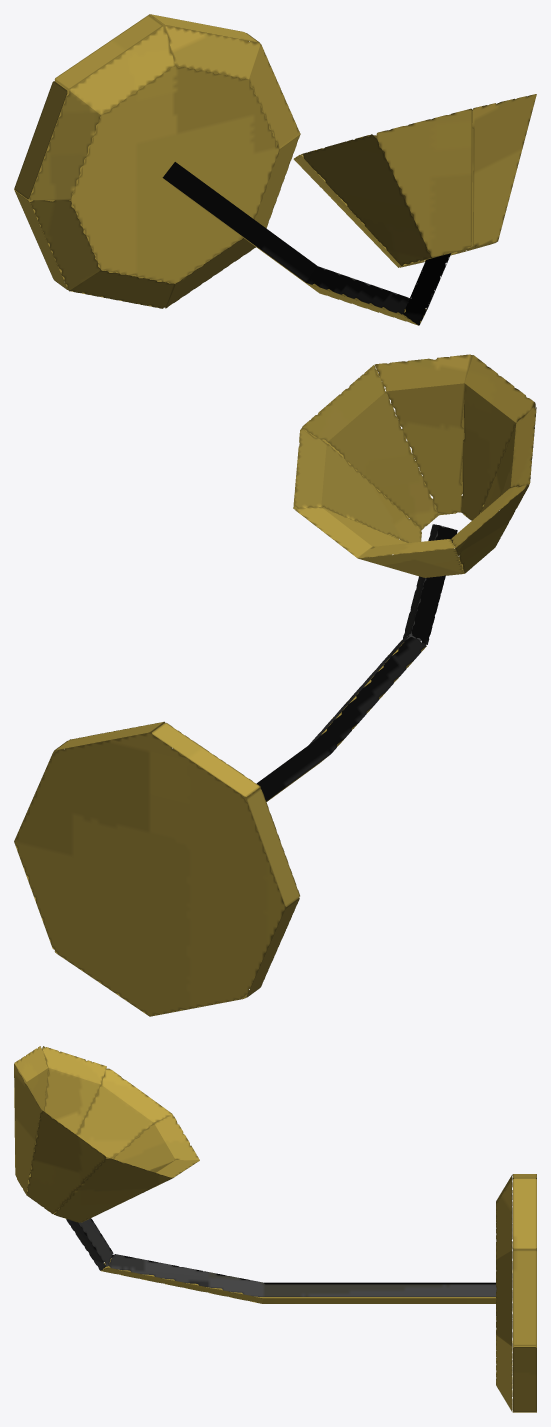
The model's file is pz_house_lamp_yellow.obj.
3 views of the same model, one above another, from view 1: azimuth 30°, elevation 25°; view 2: azimuth 150°, elevation 25°; view 3: azimuth 270°, elevation 25° (orthographic). The views are drawn at different scales.
Parts seen in each view (by area): view 1: pz_house_lamp_yellow_|_1_parte_1, pz_house_lamp_yellow_|_3_parte_3, pz_house_lamp_yellow_|_2_parte_2; view 2: pz_house_lamp_yellow_|_1_parte_1, pz_house_lamp_yellow_|_3_parte_3, pz_house_lamp_yellow_|_2_parte_2; view 3: pz_house_lamp_yellow_|_3_parte_3, pz_house_lamp_yellow_|_2_parte_2, pz_house_lamp_yellow_|_1_parte_1.
Boxes of the visible parts, left/top/right/bottom form: pz_house_lamp_yellow_|_1_parte_1: left=14, top=14, right=300, bottom=308; pz_house_lamp_yellow_|_3_parte_3: left=293, top=94, right=536, bottom=267; pz_house_lamp_yellow_|_2_parte_2: left=162, top=162, right=451, bottom=325; pz_house_lamp_yellow_|_1_parte_1: left=14, top=721, right=299, bottom=1016; pz_house_lamp_yellow_|_3_parte_3: left=293, top=354, right=536, bottom=577; pz_house_lamp_yellow_|_2_parte_2: left=256, top=524, right=457, bottom=801; pz_house_lamp_yellow_|_3_parte_3: left=14, top=1046, right=199, bottom=1222; pz_house_lamp_yellow_|_2_parte_2: left=66, top=1218, right=496, bottom=1303; pz_house_lamp_yellow_|_1_parte_1: left=496, top=1174, right=536, bottom=1412.
Size of the model in its own units: 0.26 by 0.39 by 0.5353.
1 material, 1 textured.
